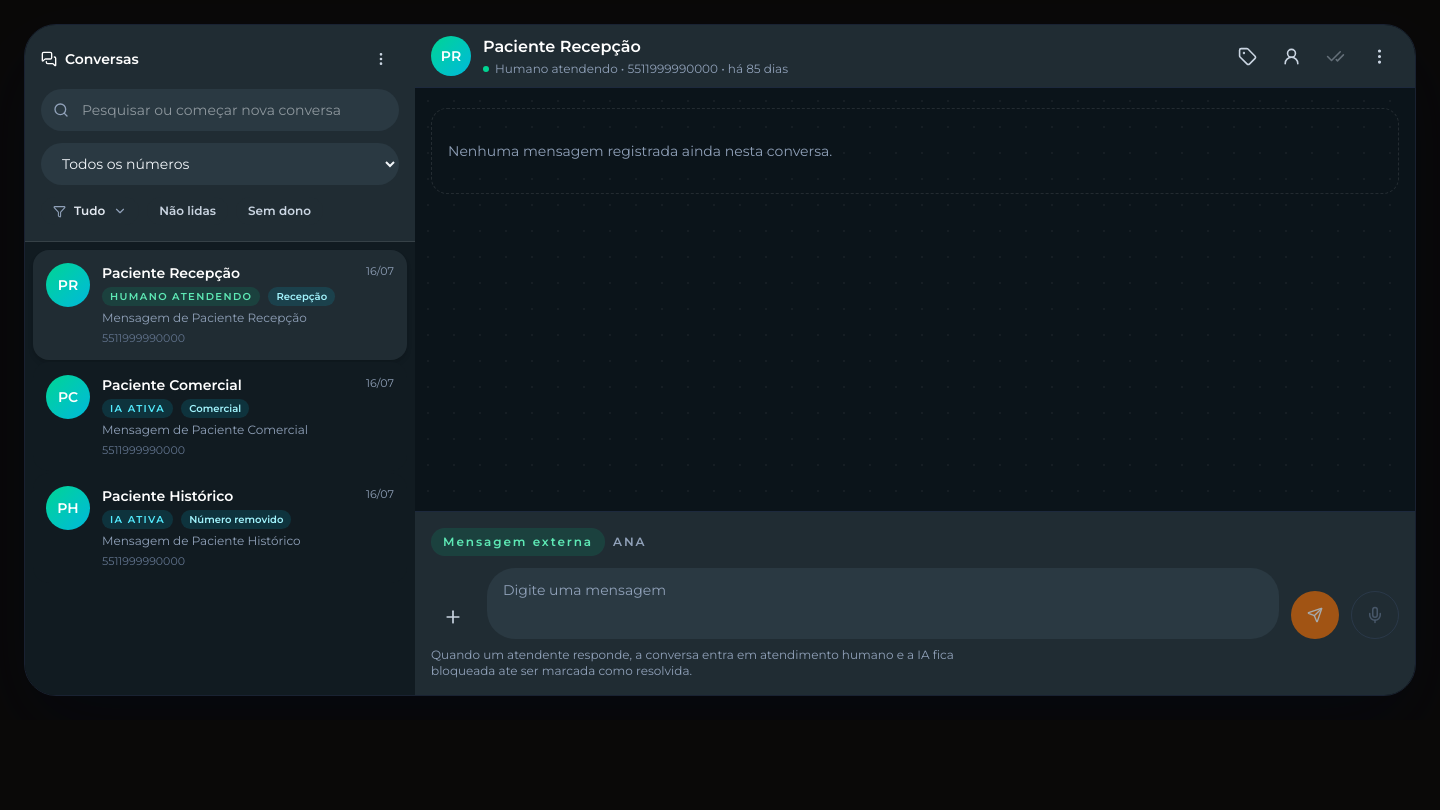
Test: TenantConversationsPage — caixa unificada › em atendimento humano sem responsável, não diz que a IA pode responder
Step 1. Click the button named "Mais ações" → click(1379, 56), box [1359,36,1399,76]
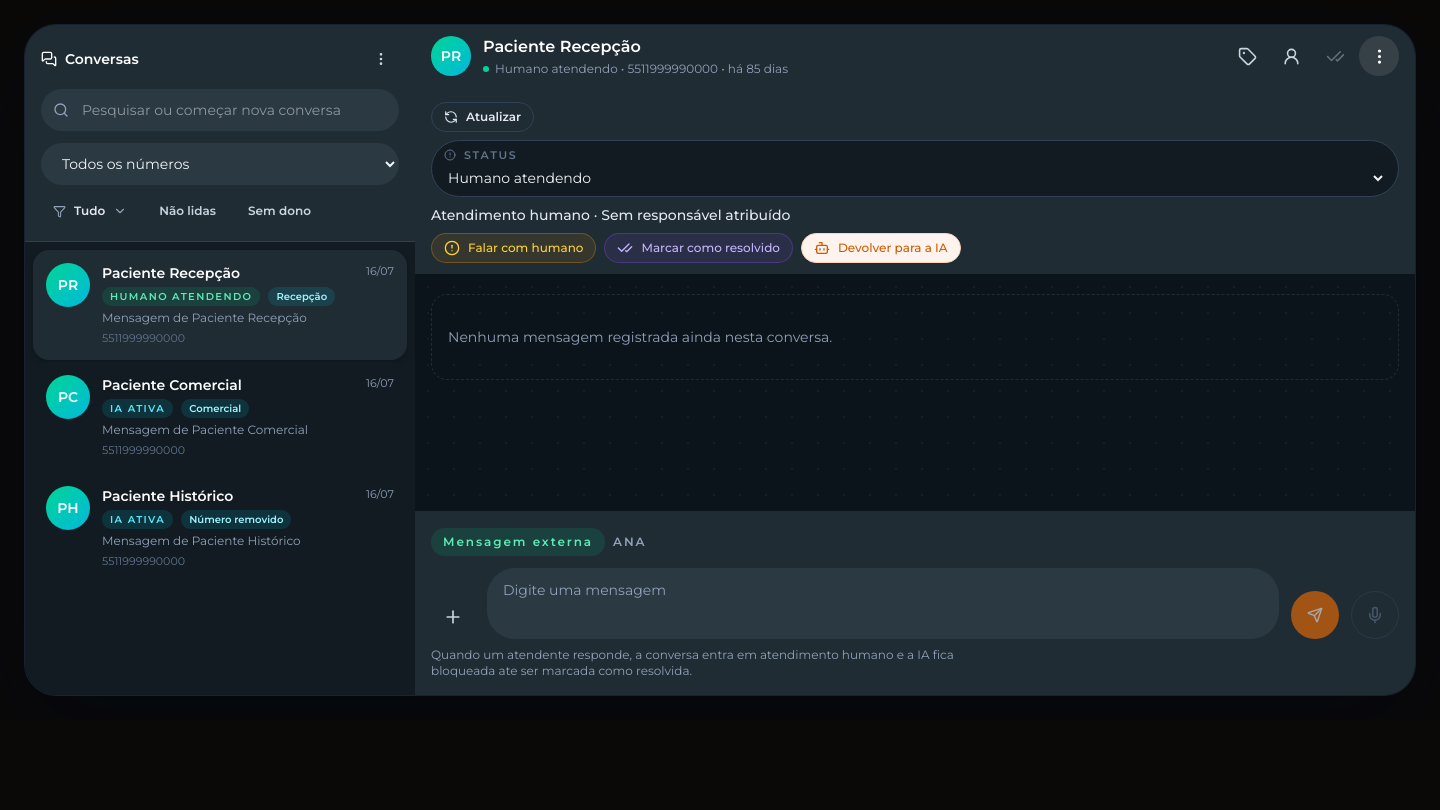
Expected: the text "Atendimento humano · Sem responsável atribuído" is shown, [431,206,790,224]
